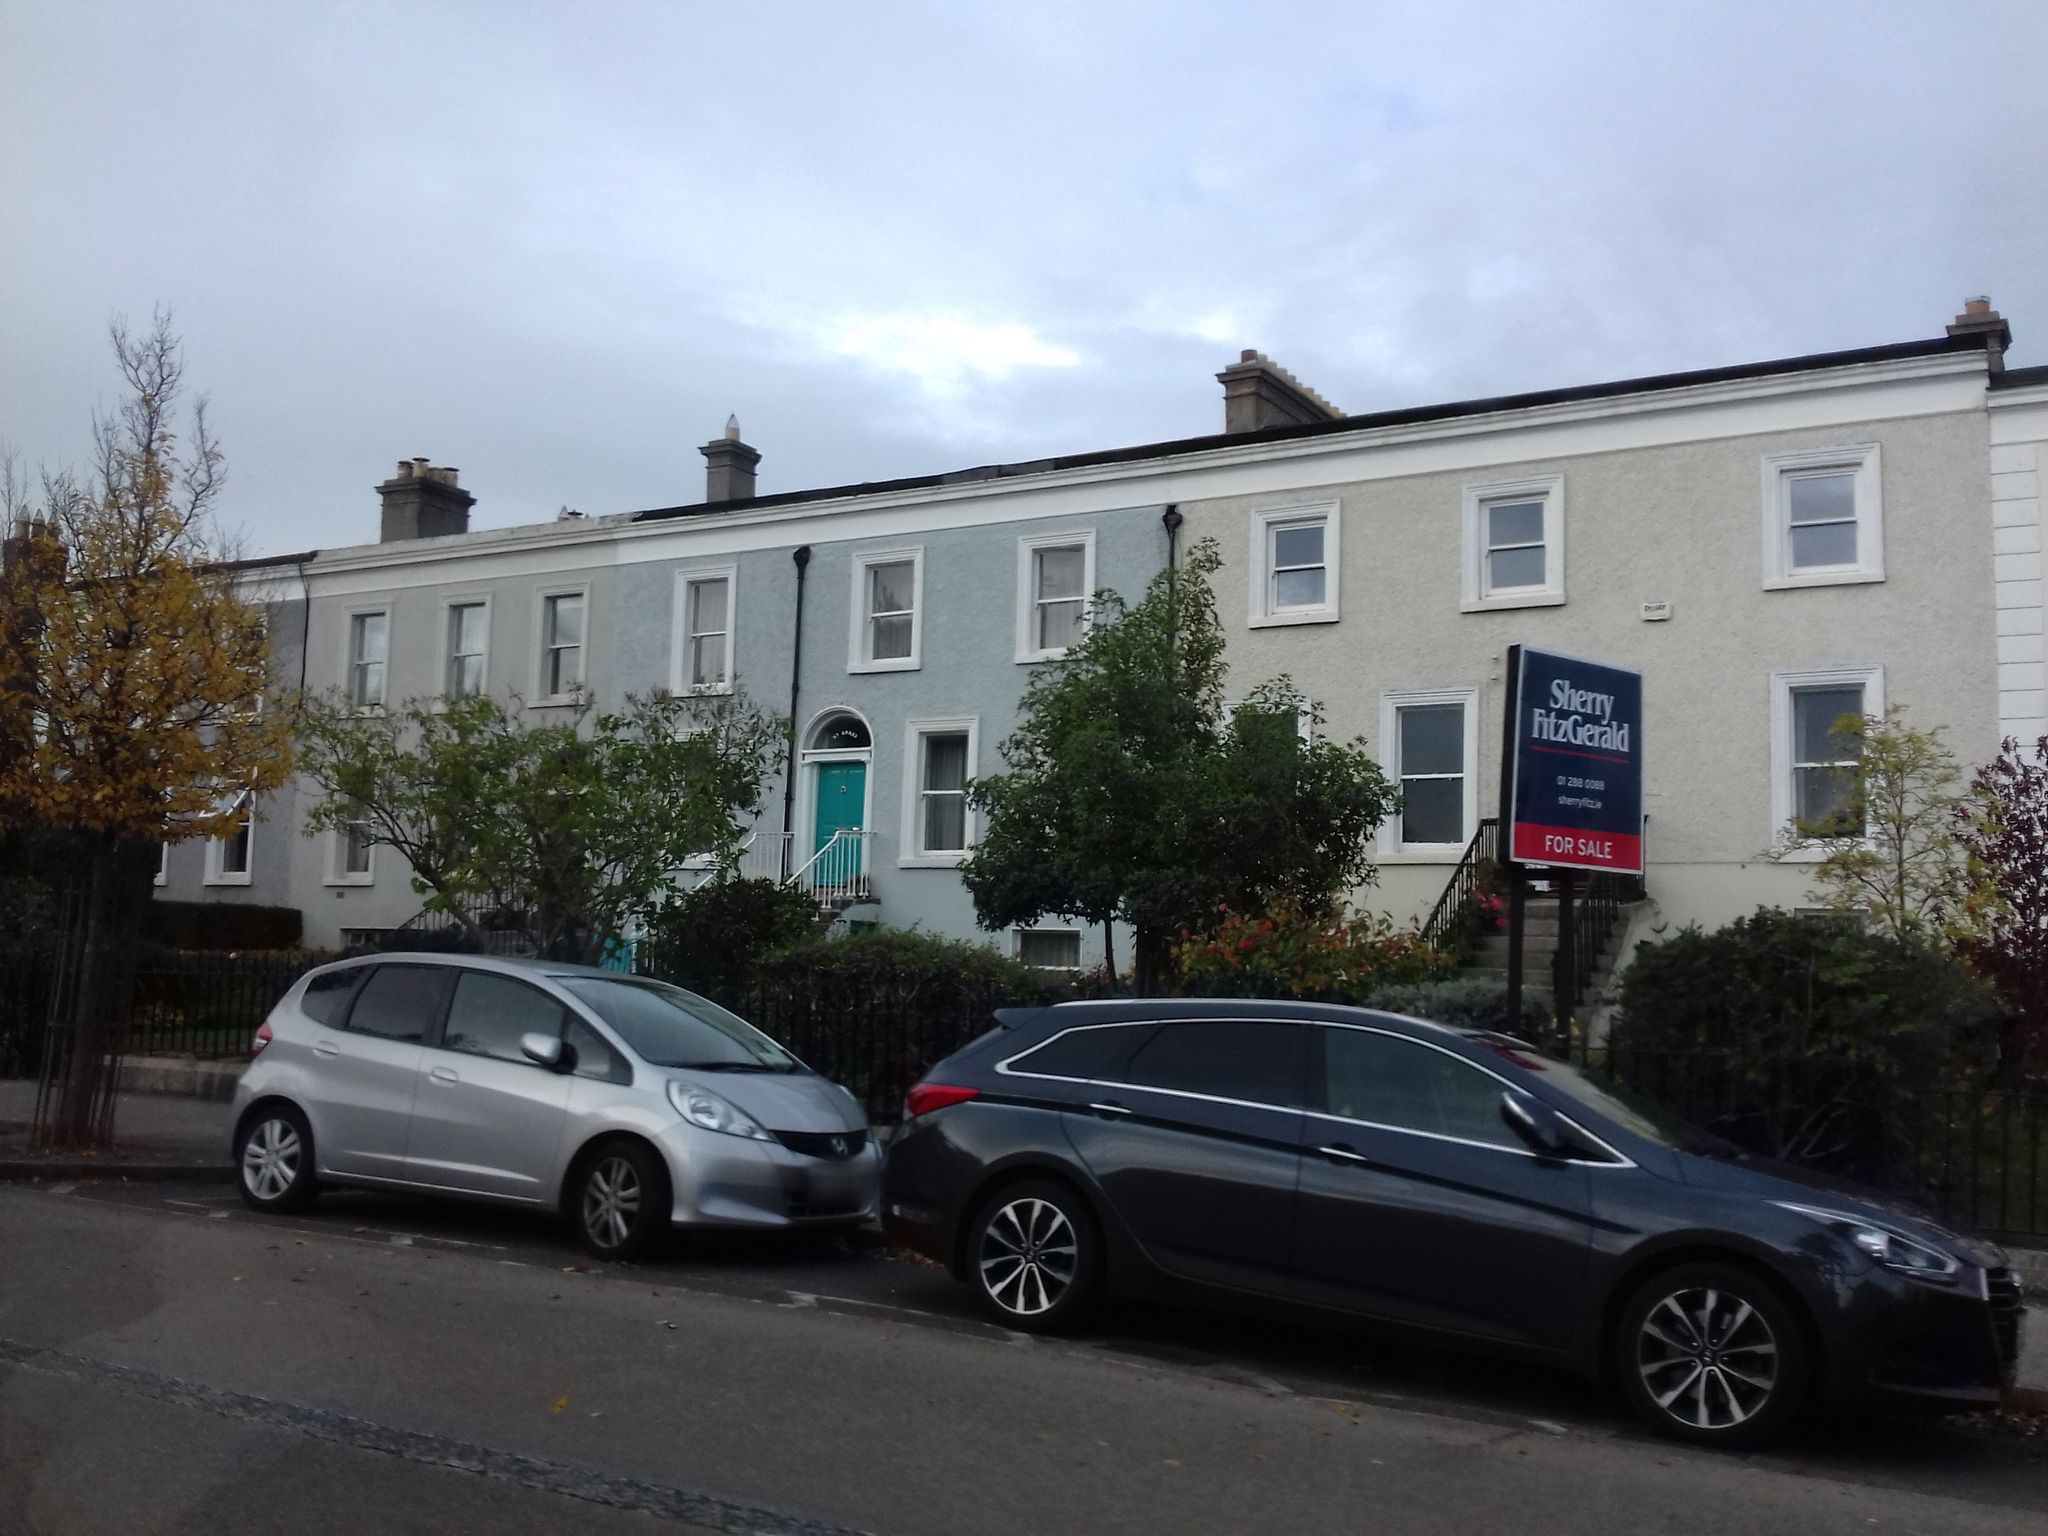property sign: (1490, 620, 1675, 887)
